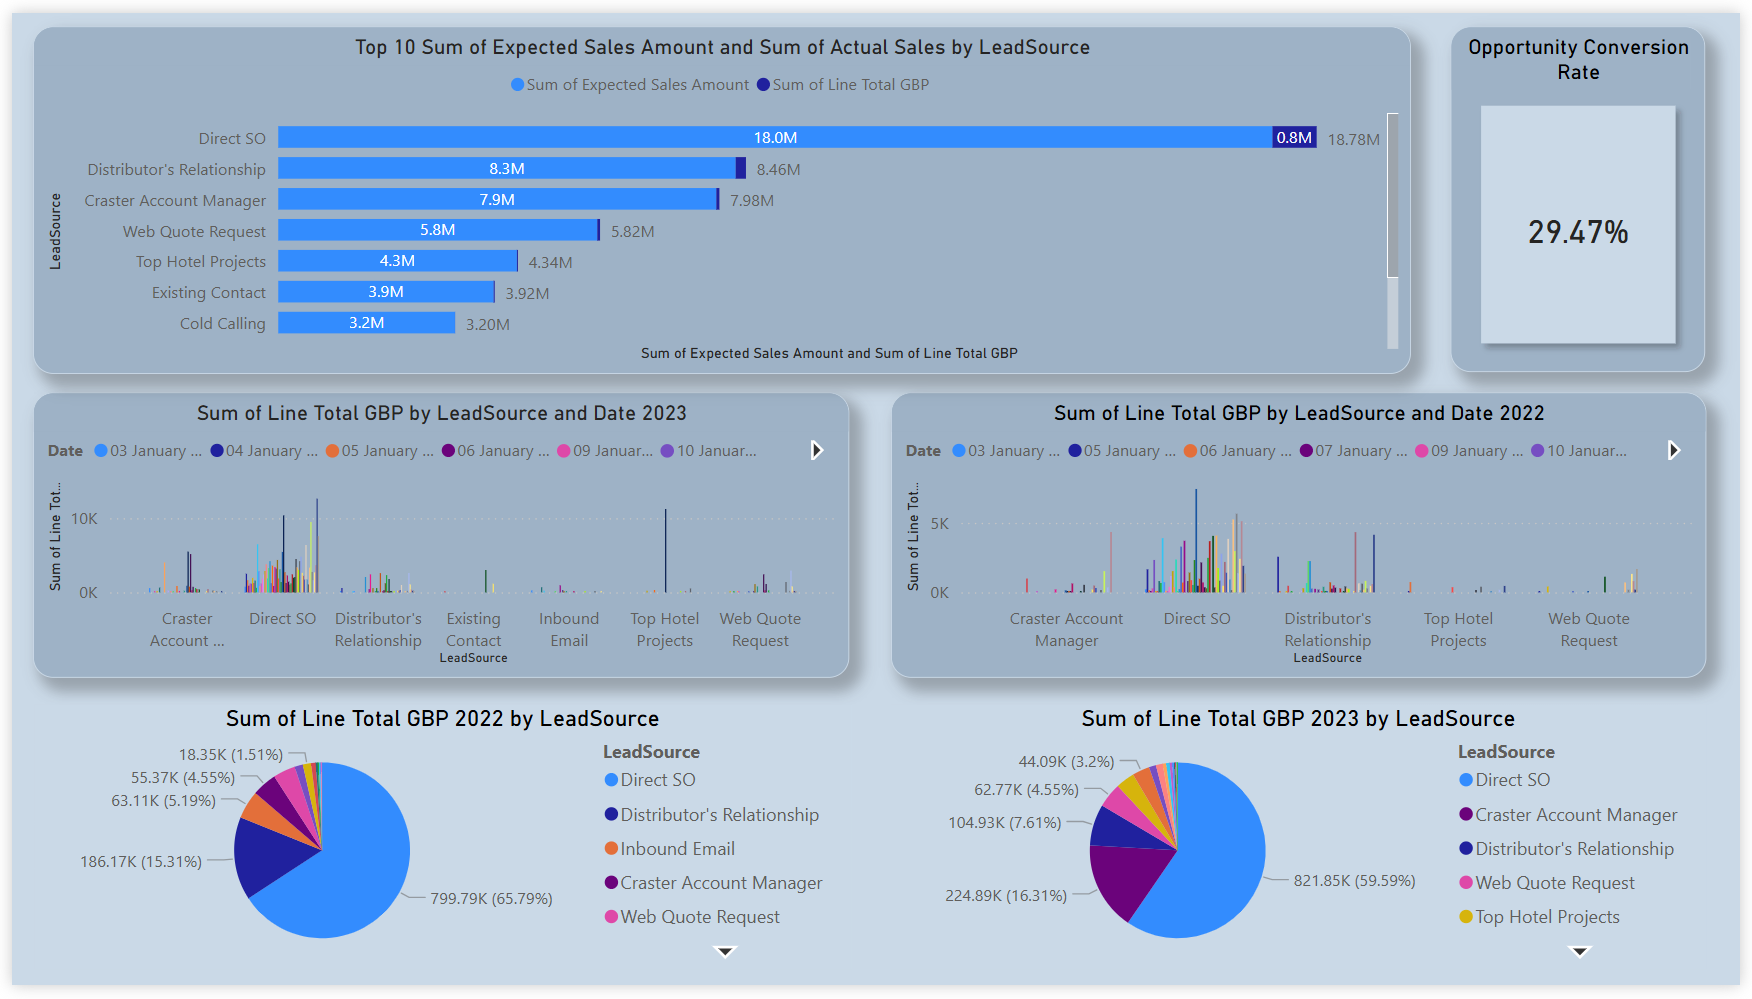

What the dashboard file says about the page in this screenshot:
{"tool":"powerbi","page":{"name":"Lead Generation Trends","canvas":[1280,720],"ordinal":4},"visuals":[{"type":"cardVisual","title":"Opportunity Conversion Rate","fields":{"Data":["CombinedSales.Conversion Rate"]},"box":[1065.8,9.8,188.9,256.3],"z":0},{"type":"clusteredColumnChart","title":"Sum of Line Total GBP by LeadSource and Date 2023","fields":{"Category":["Craster Technical Exercise - Opportunity Data.LeadSource"],"Y":["Sum(Craster Technical Exercise - Sales data 2023.Line Total GBP)"],"Series":["Craster Technical Exercise - Sales data 2023.Date"]},"box":[16,281.1,604.7,211],"z":1000},{"type":"clusteredColumnChart","title":"Sum of Line Total GBP by LeadSource and Date 2022","fields":{"Category":["Craster Technical Exercise - Opportunity Data.LeadSource"],"Y":["Sum(Craster Technical Exercise - Sales data 2022.Line Total GBP)"],"Series":["Craster Technical Exercise - Sales data 2022.Date"]},"box":[650.8,281.1,603.8,211],"z":2000},{"type":"barChart","title":"Top 10 Sum of Expected Sales Amount and Sum of Actual Sales by LeadSource","fields":{"Category":["Craster Technical Exercise - Opportunity Data.LeadSource"],"Y":["Sum(Craster Technical Exercise - Opportunity Data.Expected Sales Amount)","Sum(Craster Technical Exercise - Sales data 2022.Line Total GBP)"]},"box":[16,9.8,1020.6,257.1],"z":3000},{"type":"pieChart","title":"Sum of Line Total GBP 2022 by LeadSource","fields":{"Category":["Craster Technical Exercise - Opportunity Data.LeadSource"],"Y":["Sum(Craster Technical Exercise - Sales data 2022.Line Total GBP)"]},"box":[16.2,512.5,605,196.2],"z":4000},{"type":"pieChart","fields":{"Category":["Craster Technical Exercise - Opportunity Data.LeadSource"],"Y":["Sum(Craster Technical Exercise - Sales data 2023.Line Total GBP)"]},"box":[651.2,512.5,603.8,196.2],"z":5000}]}

Visuals, with their boxes in screenshot pixels (x1, y1, x2, y2), scaled from the page's 1280x720 canvas onto the 1752x999 screenshot:
"Opportunity Conversion Rate" cardVisual: x1=1459 y1=14 x2=1717 y2=369
"Sum of Line Total GBP by LeadSource and Date 2023" clusteredColumnChart: x1=22 y1=390 x2=850 y2=683
"Sum of Line Total GBP by LeadSource and Date 2022" clusteredColumnChart: x1=891 y1=390 x2=1717 y2=683
"Top 10 Sum of Expected Sales Amount and Sum of Actual Sales by LeadSource" barChart: x1=22 y1=14 x2=1419 y2=370
"Sum of Line Total GBP 2022 by LeadSource" pieChart: x1=22 y1=711 x2=850 y2=983
pieChart - Craster Technical Exercise - Opportunity Data.LeadSource x Sum(Craster Technical Exercise - Sales data 2023.Line Total GBP): x1=891 y1=711 x2=1718 y2=983
